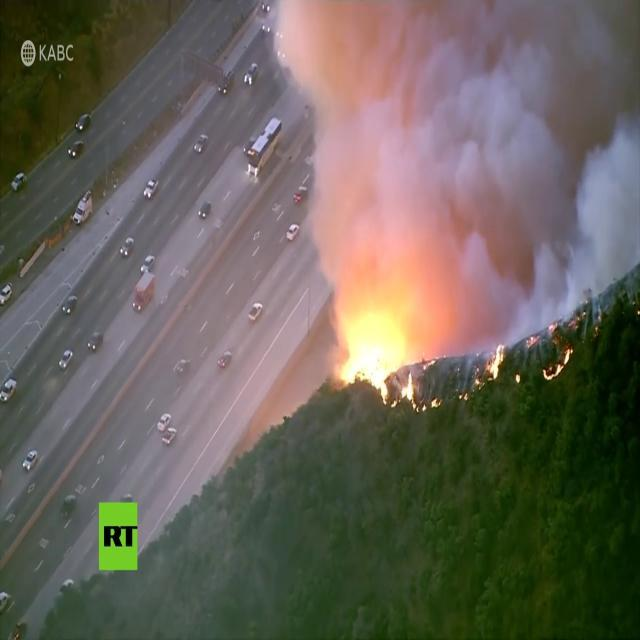Fire: (336, 318, 391, 406), (538, 348, 572, 382), (484, 340, 504, 380), (400, 375, 421, 413), (524, 333, 540, 348), (456, 389, 468, 402), (432, 396, 441, 408), (547, 325, 557, 333)
Smoke: (506, 105, 640, 350), (341, 0, 406, 284), (504, 0, 640, 103), (409, 1, 458, 284), (458, 0, 503, 278)
